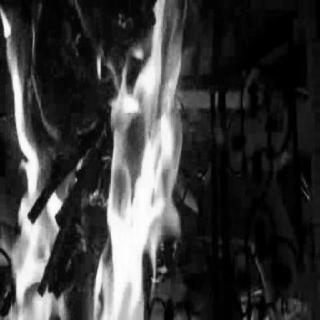Fire: (2, 3, 198, 319)
